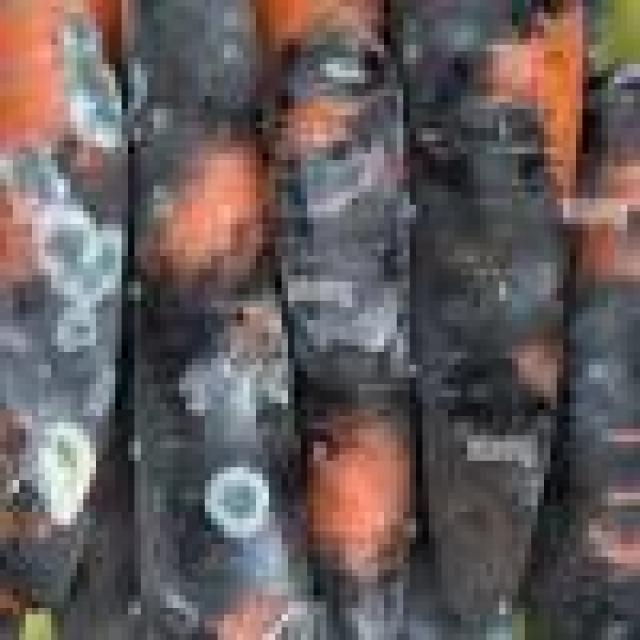Stale_Carrot: (402, 0, 588, 639), (128, 0, 294, 640), (278, 0, 412, 639), (0, 0, 120, 640)
